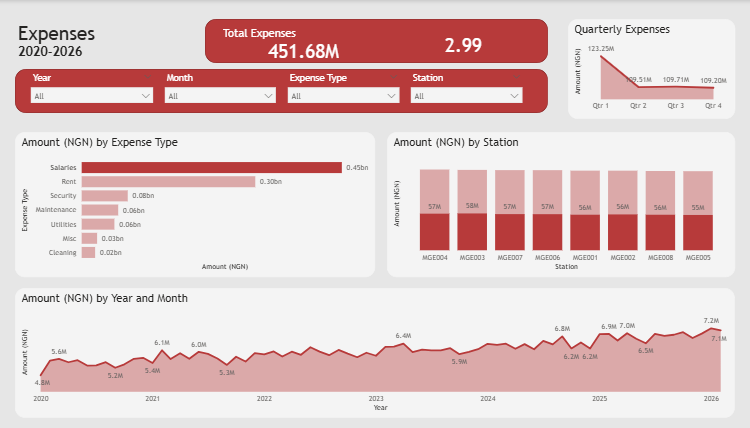

What the dashboard file says about the page in this screenshot:
{"tool":"powerbi","page":{"name":"Expenses","canvas":[1280,720],"ordinal":3},"visuals":[{"type":"shape","box":[35.3,115.9,895.3,73.9],"z":0},{"type":"slicer","fields":{"Values":["Monthly Expenses.Month.Variation.Date Hierarchy.Month"]},"box":[277.4,115.9,206.4,70.6],"z":0,"group":"g1"},{"type":"shape","box":[354.4,31.9,576.2,73.9],"z":1000},{"type":"slicer","fields":{"Values":["Monthly Expenses.Month.Variation.Date Hierarchy.Year"]},"box":[52.1,115.9,225.3,70.6],"z":1000,"group":"g1"},{"type":"card","title":"Total Expenses","fields":{"Values":["_Measures.Total Expenses"]},"box":[379.6,43.7,280.5,62.2],"z":2000},{"type":"slicer","fields":{"Values":["Monthly Expenses.Expense Type"]},"box":[483.8,115.9,206.6,70.6],"z":2000,"group":"g1"},{"type":"card","fields":{"Values":["_Measures.Cost Per Liter Sold"]},"box":[660.2,43.7,257,62.2],"z":3000},{"type":"slicer","fields":{"Values":["Monthly Expenses.StationID"]},"box":[690.4,115.9,206.6,70.6],"z":3000,"group":"g1"},{"type":"lineChart","fields":{"Category":["Monthly Expenses.Month.Variation.Date Hierarchy.Year","Monthly Expenses.Month.Variation.Date Hierarchy.Month"],"Y":["Sum(Monthly Expenses.Amount (NGN))"]},"box":[35.3,483.8,1209.4,218.4],"z":4000},{"type":"columnChart","fields":{"Category":["Monthly Expenses.StationID"],"Y":["Sum(Monthly Expenses.Amount (NGN))"]},"box":[660.2,221.7,584.6,243.6],"z":5000},{"type":"clusteredBarChart","fields":{"Y":["Sum(Monthly Expenses.Amount (NGN))"],"Category":["Monthly Expenses.Expense Type"]},"box":[35.3,221.7,604.7,243.6],"z":6000},{"type":"textbox","box":[35.3,31.9,267.1,73.9],"z":7000},{"type":"stackedAreaChart","title":"Quarterly Expenses","fields":{"Y":["Sum(Monthly Expenses.Amount (NGN))"],"Category":["Monthly Expenses.Month.Variation.Date Hierarchy.Quarter"]},"box":[964.2,31.9,280.5,168],"z":8000},{"type":"group","id":"g1","title":"Group 1","box":[52.1,115.9,844.9,70.6],"z":9000}]}

Visuals, with their boxes in screenshot pixels (x1, y1, x2, y2), scaled from the page's 1280x720 canvas onto the 750x428 screenshot:
shape: [21, 69, 545, 113]
slicer - Monthly Expenses.Month.Variation.Date Hierarchy.Month: [163, 69, 283, 111]
shape: [208, 19, 545, 63]
slicer - Monthly Expenses.Month.Variation.Date Hierarchy.Year: [31, 69, 163, 111]
"Total Expenses" card: [222, 26, 387, 63]
slicer - Monthly Expenses.Expense Type: [283, 69, 405, 111]
card - _Measures.Cost Per Liter Sold: [387, 26, 537, 63]
slicer - Monthly Expenses.StationID: [405, 69, 526, 111]
lineChart - Monthly Expenses.Month.Variation.Date Hierarchy.Year x Monthly Expenses.Month.Variation.Date Hierarchy.Month: [21, 288, 729, 417]
columnChart - Monthly Expenses.StationID x Sum(Monthly Expenses.Amount (NGN)): [387, 132, 729, 277]
clusteredBarChart - Sum(Monthly Expenses.Amount (NGN)) x Monthly Expenses.Expense Type: [21, 132, 375, 277]
textbox: [21, 19, 177, 63]
"Quarterly Expenses" stackedAreaChart: [565, 19, 729, 119]
"Group 1" group: [31, 69, 526, 111]
